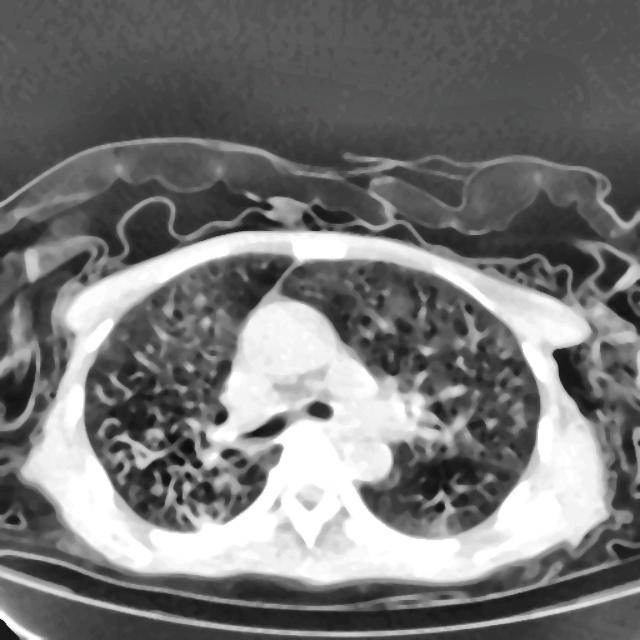covid: (20, 227, 615, 588)
